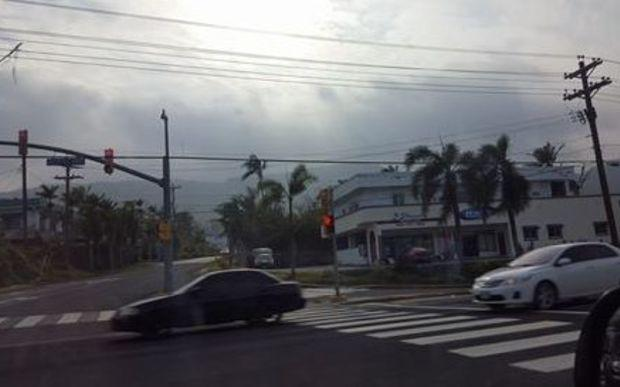car: (107, 268, 307, 341), (470, 240, 620, 311), (399, 246, 430, 265), (252, 246, 275, 270)
